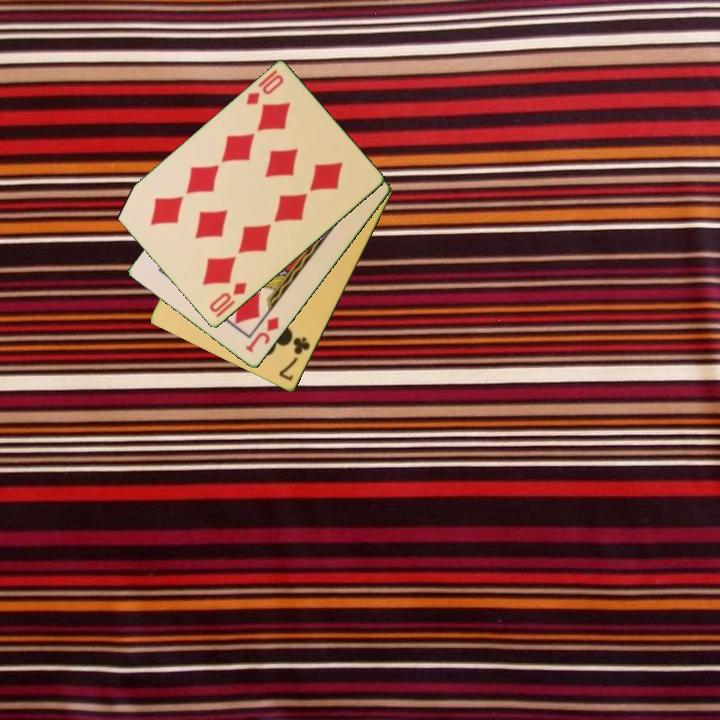10d: (242, 66, 287, 109), (206, 279, 250, 316)
7c: (275, 334, 313, 384)
Jd: (242, 313, 282, 356)
